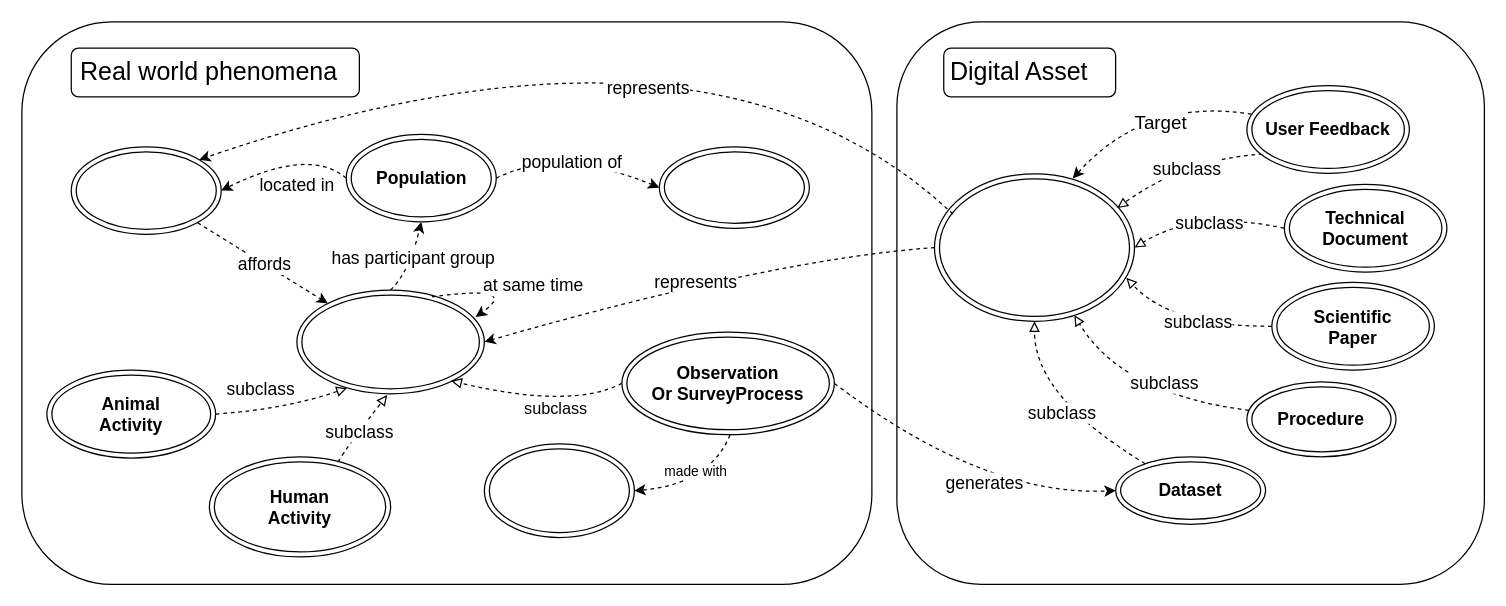
This 1506x606 diagram has some shape labels left out. The shapes that lost their labels are listed below. From the top down, each one's box as (x1, y1, x2, y2) in pixels, then its label:
(70, 146, 221, 234): LandEntity
(658, 146, 809, 228): Species
(933, 173, 1134, 321): Catalogued resource
(296, 289, 484, 394): Activity
(483, 442, 634, 538): Sensor
